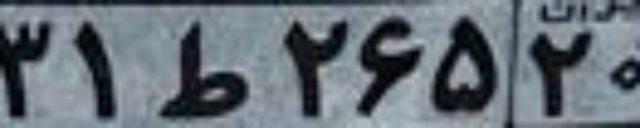0: (605, 56, 639, 89)
1: (71, 18, 117, 119)
2: (282, 18, 347, 118), (525, 29, 590, 117)
3: (0, 16, 62, 118)
5: (432, 15, 497, 113)
6: (355, 17, 419, 117)
taa: (159, 17, 251, 118)
